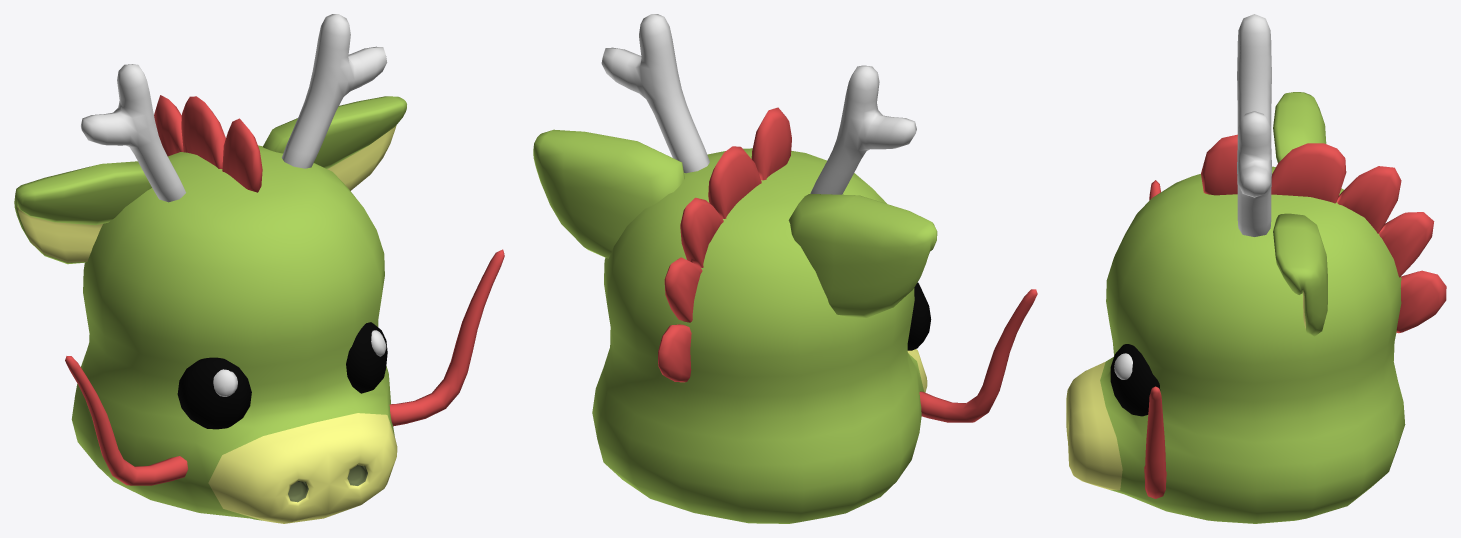
The model's file is dragonhead.fbx.
The picture shows the model from 3 angles, left to right: view 1: azimuth 30°, elevation 25°; view 2: azimuth 150°, elevation 25°; view 3: azimuth 270°, elevation 25°; orthographic projection. The views are drawn at different scales.
Visible parts, largest first — view 1: dragon_head; view 2: dragon_head; view 3: dragon_head.
Part boxes in pixels (box(x1,y1,x2,y2)): dragon_head: box(14, 14, 504, 523); dragon_head: box(533, 14, 1037, 523); dragon_head: box(1066, 14, 1446, 523).
Size of the model in its own units: 81.06 by 77.37 by 62.41.
